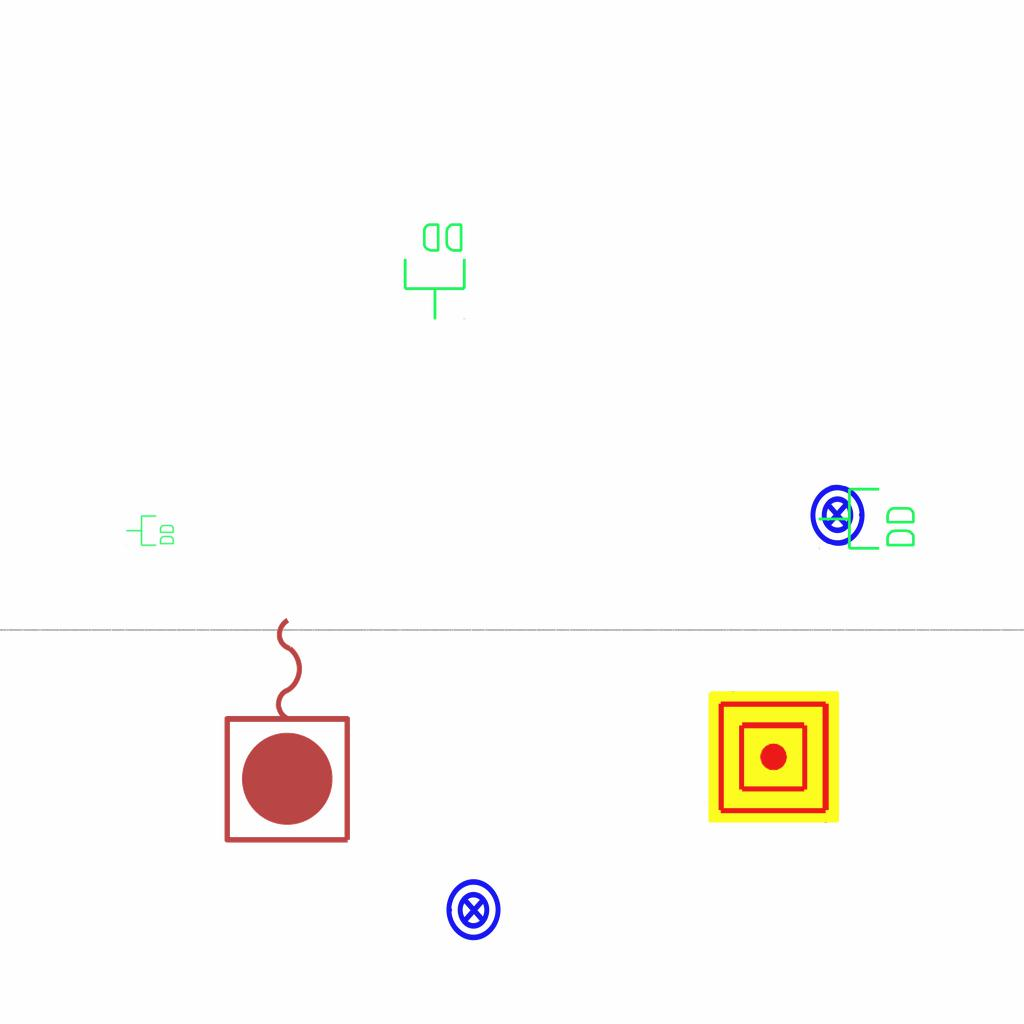Datenanschluss_zweifach: (401, 219, 470, 322), (816, 485, 919, 554), (125, 514, 176, 548)
NAM-Nichtautomatischer_Melder: (708, 691, 840, 823)
Taster_beleuchtet: (803, 481, 871, 549), (441, 877, 507, 943)
Zugtaster: (217, 607, 361, 851)
